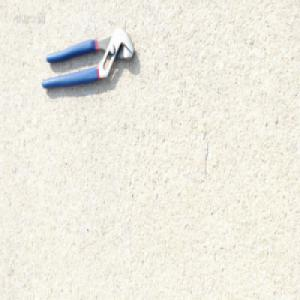Pliers: (40, 28, 135, 92)
